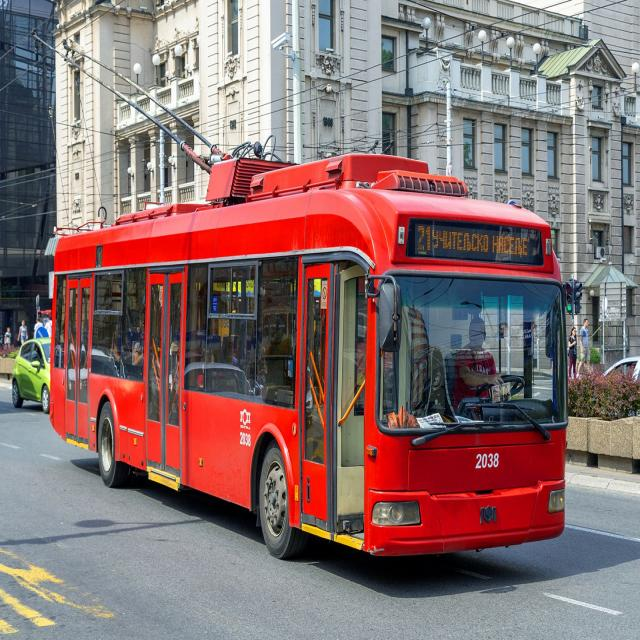bus: (34, 162, 586, 574)
